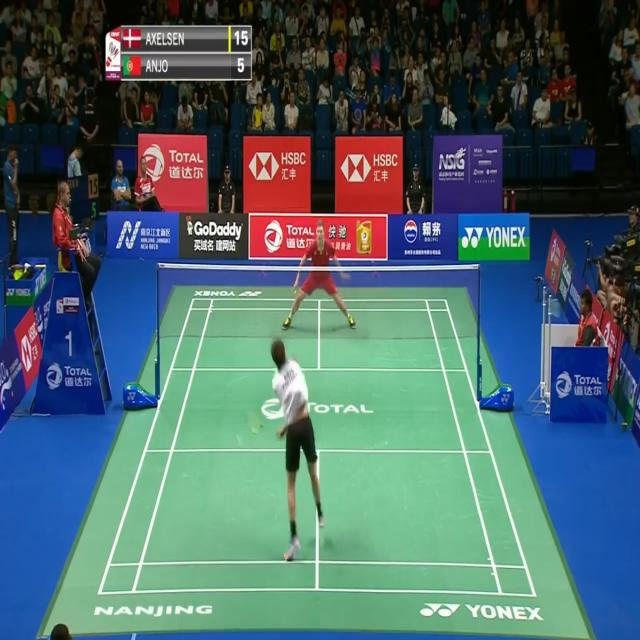Player1: (262, 338, 336, 566)
Player2: (279, 217, 360, 336)
